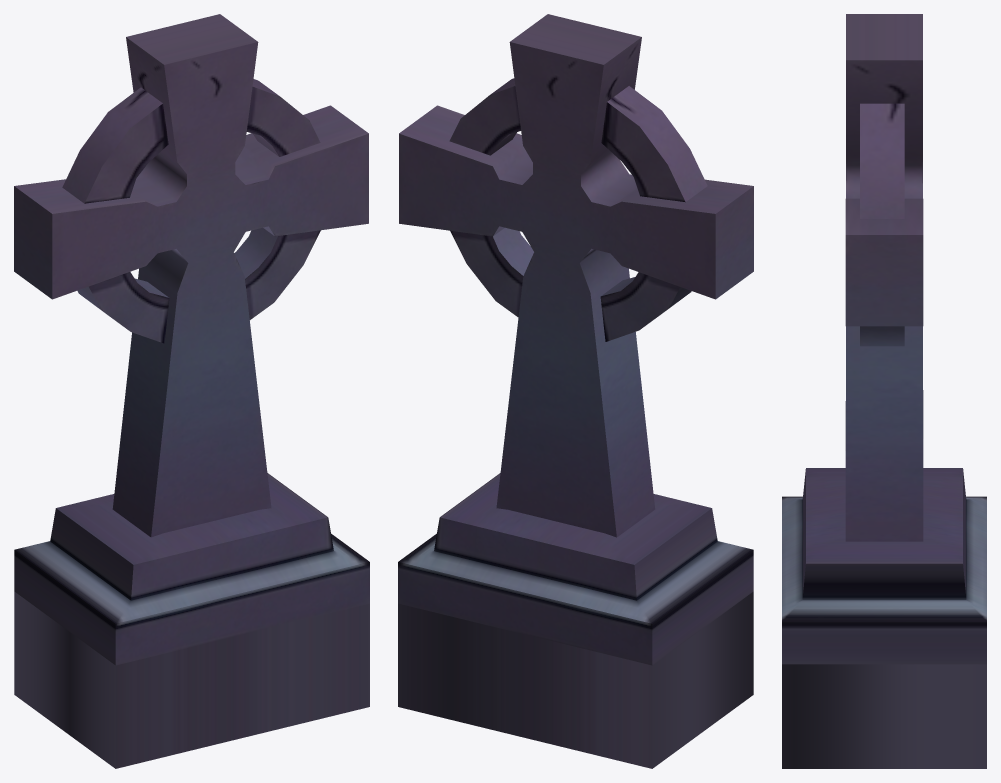
File: Gravestone01.glb
3 views of the same model, side by side, from view 1: azimuth 30°, elevation 25°; view 2: azimuth 150°, elevation 25°; view 3: azimuth 270°, elevation 25° (orthographic).
Parts seen in each view (by area): view 1: Gravestone01; view 2: Gravestone01; view 3: Gravestone01.
Boxes of the visible parts, left/top/right/bottom form: Gravestone01: left=14, top=14, right=369, bottom=768; Gravestone01: left=398, top=14, right=753, bottom=768; Gravestone01: left=782, top=14, right=986, bottom=768.
Size of the model in its own units: 4 by 7.98 by 2.22.
1 material, 1 textured.
